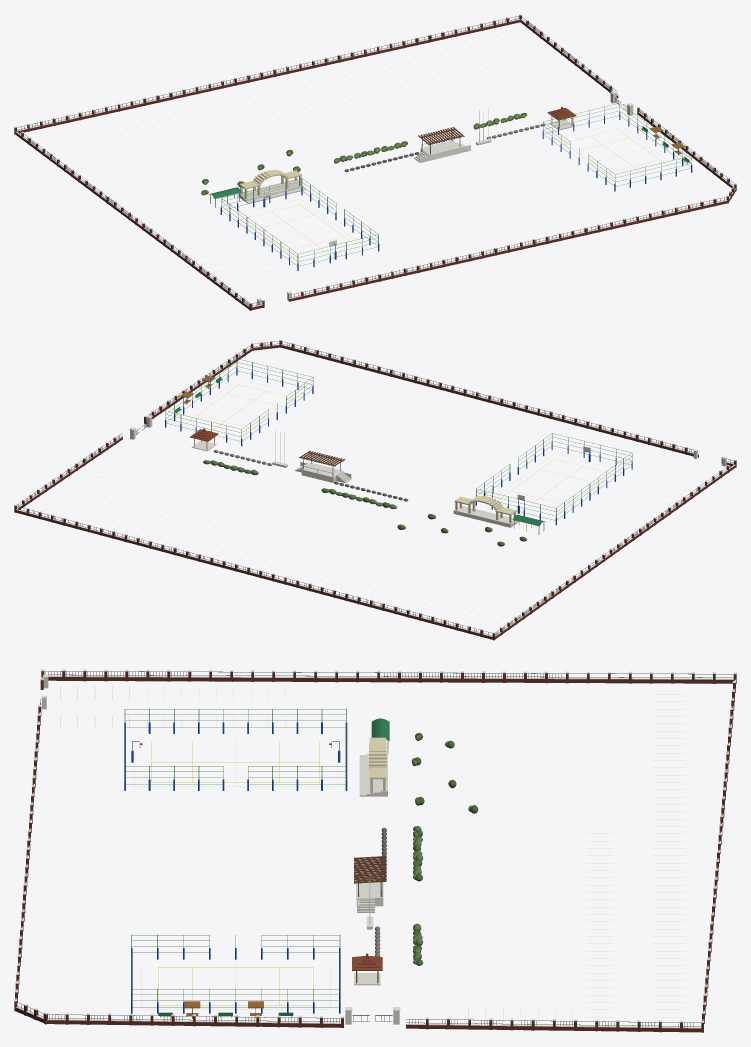
3 renders of one model, top to bottom at view 1: azimuth 30°, elevation 25°; view 2: azimuth 150°, elevation 25°; view 3: azimuth 270°, elevation 25°, orthographic. The views are drawn at different scales.
Parts seen in each view (by area): view 1: prop_boundary-fence, prop_backstop-fence, prop_arch-canopy, prop_flowerbeds, prop_assembly-stand, prop_parking-lines, prop_field-lines; view 2: prop_boundary-fence, prop_backstop-fence, prop_flowerbeds, prop_arch-canopy, prop_assembly-stand, prop_parking-lines, prop_field-lines; view 3: prop_boundary-fence, prop_backstop-fence, prop_parking-lines, prop_flowerbeds, prop_assembly-stand, prop_arch-canopy, prop_field-lines, prop_pavilion.
Boxes of the visible parts, x1,y1,x2,y2 form: prop_boundary-fence: (14, 14, 736, 310); prop_backstop-fence: (220, 103, 692, 270); prop_arch-canopy: (238, 169, 305, 203); prop_flowerbeds: (201, 113, 544, 195); prop_assembly-stand: (414, 127, 471, 162); prop_parking-lines: (49, 31, 587, 303); prop_field-lines: (231, 123, 682, 267); prop_boundary-fence: (14, 339, 736, 640); prop_backstop-fence: (165, 358, 632, 525); prop_flowerbeds: (203, 450, 527, 546); prop_arch-canopy: (453, 495, 518, 527); prop_assembly-stand: (295, 450, 351, 483); prop_parking-lines: (42, 455, 719, 623); prop_field-lines: (174, 379, 622, 521); prop_boundary-fence: (14, 669, 736, 1032); prop_backstop-fence: (124, 709, 347, 1018); prop_parking-lines: (60, 686, 685, 1022); prop_flowerbeds: (375, 732, 478, 965); prop_assembly-stand: (354, 856, 385, 912); prop_arch-canopy: (359, 737, 387, 796); prop_field-lines: (134, 738, 337, 1009); prop_pavilion: (352, 953, 382, 985).
Size of the model in its own units: 125 by 8.26 by 108.
